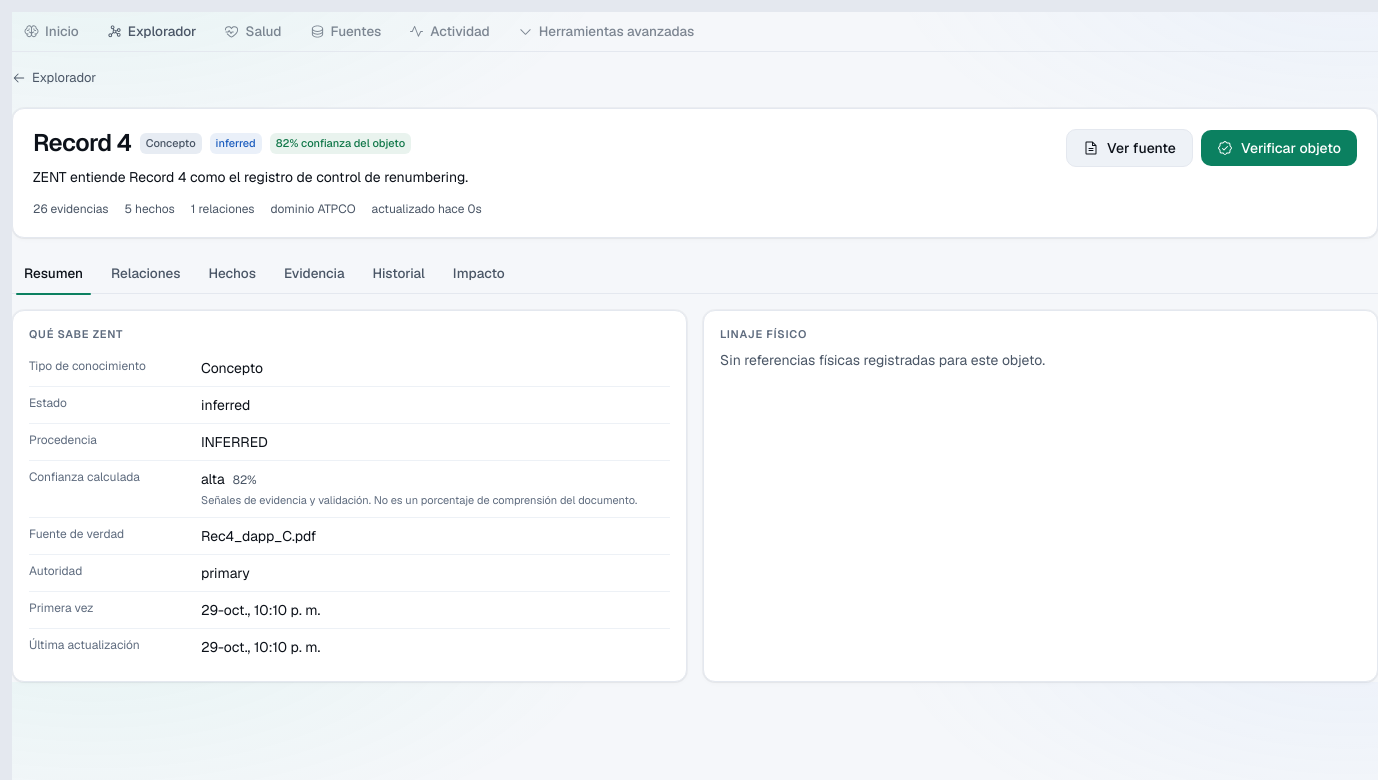
Scenario: KnowledgeObjectPage › permite verificar el objeto y recarga el detalle
The image size is (1378, 780).
Expected: the heading "Record 4" is shown, [33,129,132,158]
Click the button "Verificar objeto": coordinates (1279, 148) [1201,130,1357,166]
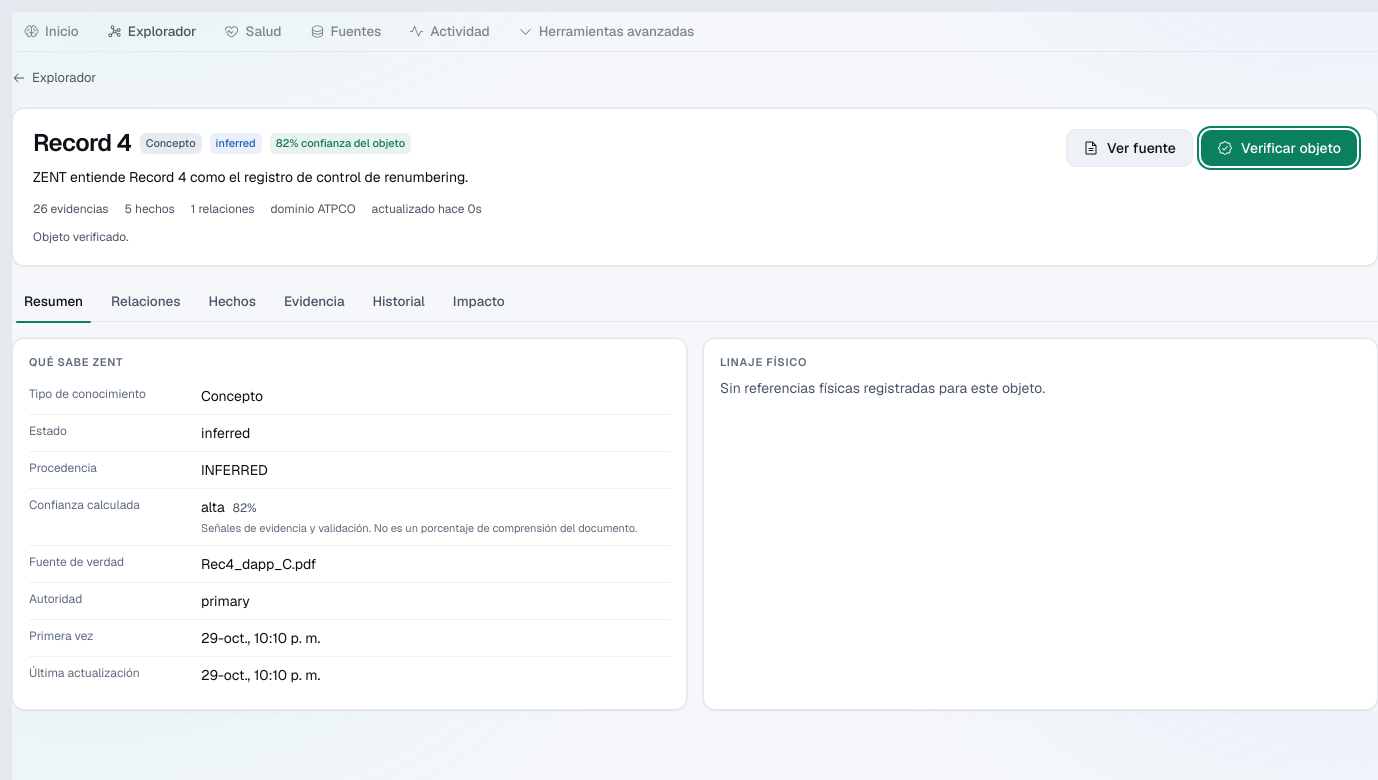
Result: the text "Objeto verificado." is shown at [33,228,129,244]
